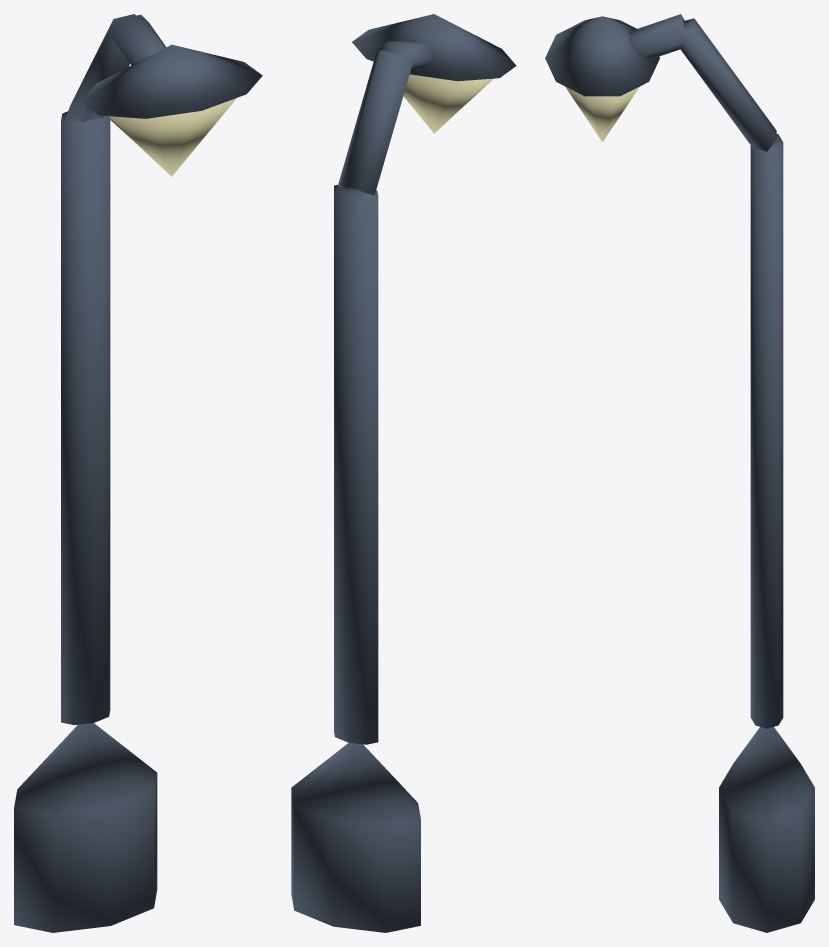
Rendered from street-lamp.glb.
3 views of the same model, side by side, from view 1: azimuth 30°, elevation 25°; view 2: azimuth 150°, elevation 25°; view 3: azimuth 270°, elevation 25° (orthographic). The views are drawn at different scales.
Visible parts, largest first — view 1: world; view 2: world; view 3: world.
Boxes of the visible parts, x1,y1,x2,y2 form: world: [14, 14, 262, 932]; world: [291, 14, 516, 932]; world: [545, 14, 814, 932].
Bounding box in the file's own units: 1.2 × 6.5 × 1.8.
